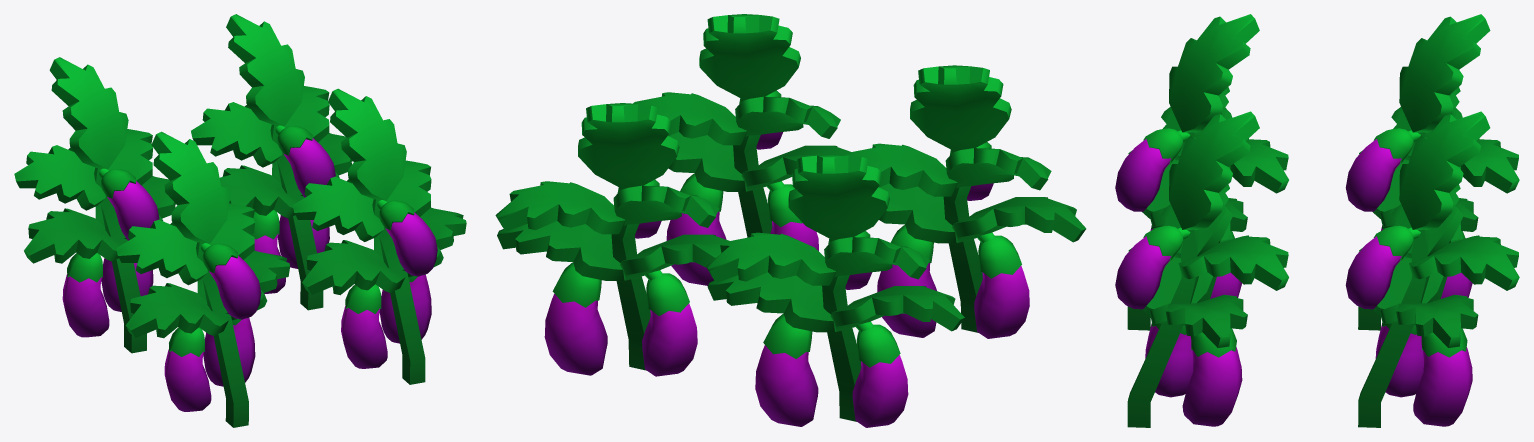
The model's file is Farm_Crop_Eggplant_Step_03.fbx.
3 renders of one model, left to right at view 1: azimuth 30°, elevation 25°; view 2: azimuth 150°, elevation 25°; view 3: azimuth 270°, elevation 25°, orthographic. The views are drawn at different scales.
Visible parts, largest first — view 1: Farm_Crop_Eggplant_Step_03; view 2: Farm_Crop_Eggplant_Step_03; view 3: Farm_Crop_Eggplant_Step_03.
Part boxes in pixels (x1=…): Farm_Crop_Eggplant_Step_03: x1=14, y1=14, x2=466, y2=427; Farm_Crop_Eggplant_Step_03: x1=495, y1=14, x2=1086, y2=427; Farm_Crop_Eggplant_Step_03: x1=1115, y1=14, x2=1519, y2=427.
Bounding box in the file's own units: 205 × 141 × 176.
